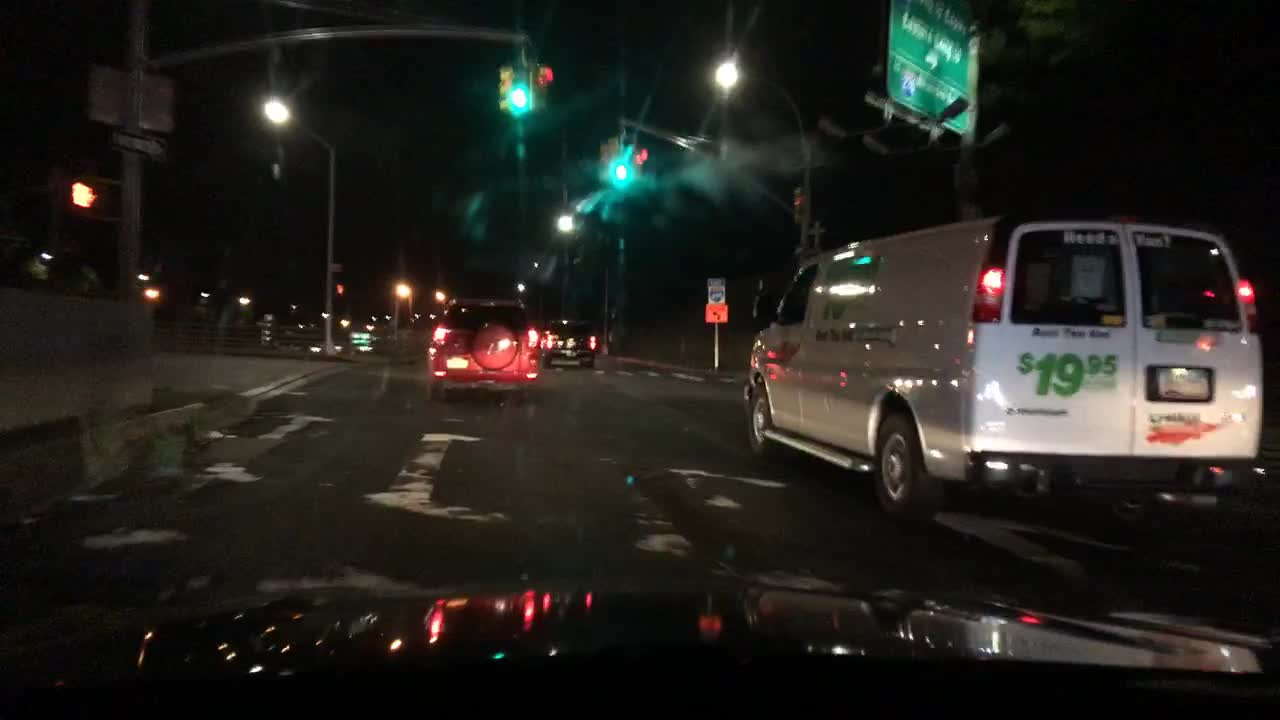car: (740, 212, 1263, 526), (425, 295, 543, 405), (538, 318, 597, 368)
traffic light: (69, 171, 111, 218), (528, 63, 553, 111), (510, 63, 532, 114), (612, 139, 634, 183), (600, 135, 621, 181), (499, 62, 513, 111), (631, 141, 647, 181), (329, 262, 344, 275)
traffic sign: (886, 0, 973, 132), (87, 63, 173, 132), (704, 301, 728, 323), (707, 276, 723, 303)
